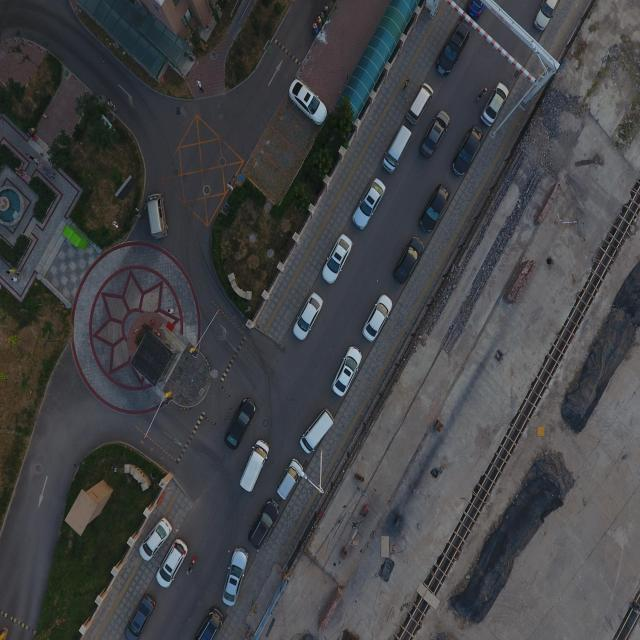p3rson: (26, 153, 38, 165), (14, 166, 26, 177), (36, 162, 48, 172), (6, 268, 20, 276), (195, 79, 203, 92), (402, 78, 410, 90), (26, 128, 35, 138), (108, 99, 116, 110), (101, 95, 108, 106), (478, 89, 486, 98), (10, 275, 20, 282), (167, 306, 175, 314), (136, 212, 144, 220), (21, 174, 28, 181), (42, 112, 48, 120), (32, 135, 37, 141)
